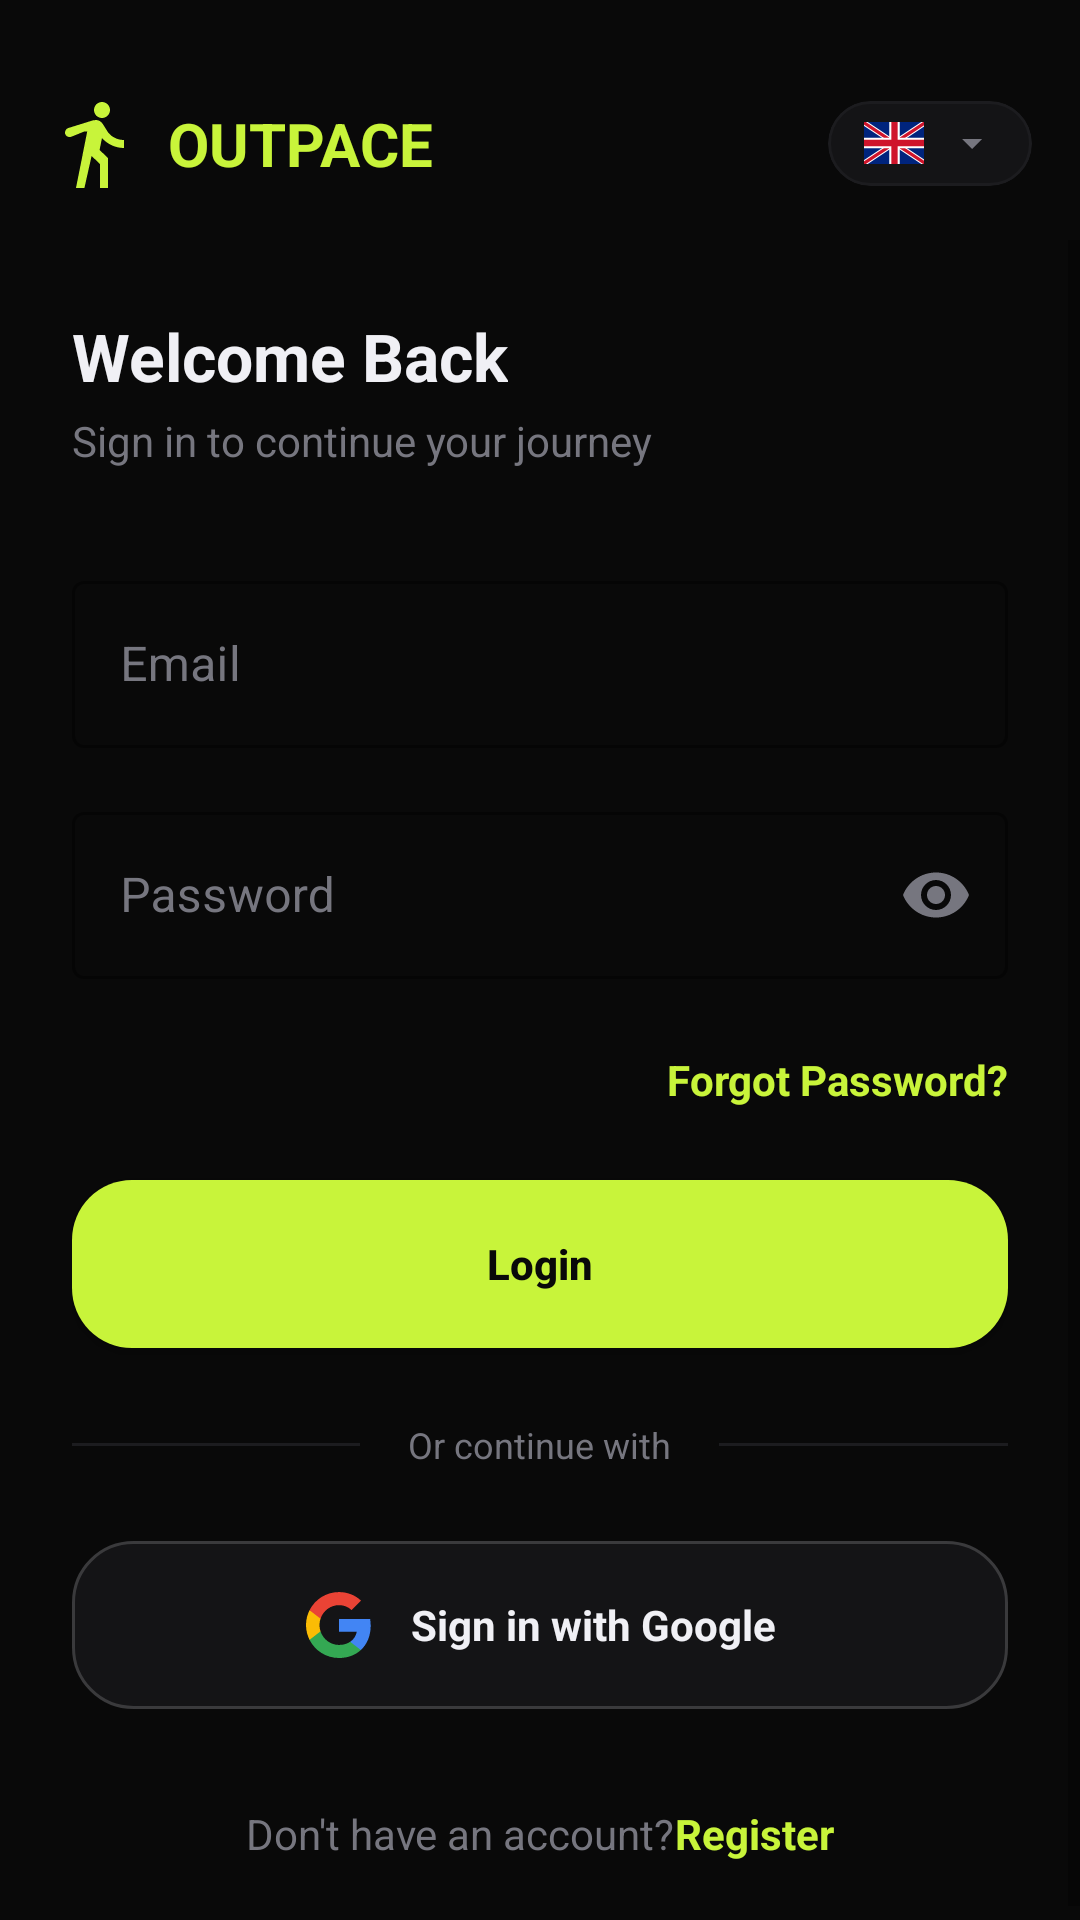

Icon click points for this 1080w x 1920h phone screenshot, format (x=x, y=y):
flag en: (x=894, y=143)
